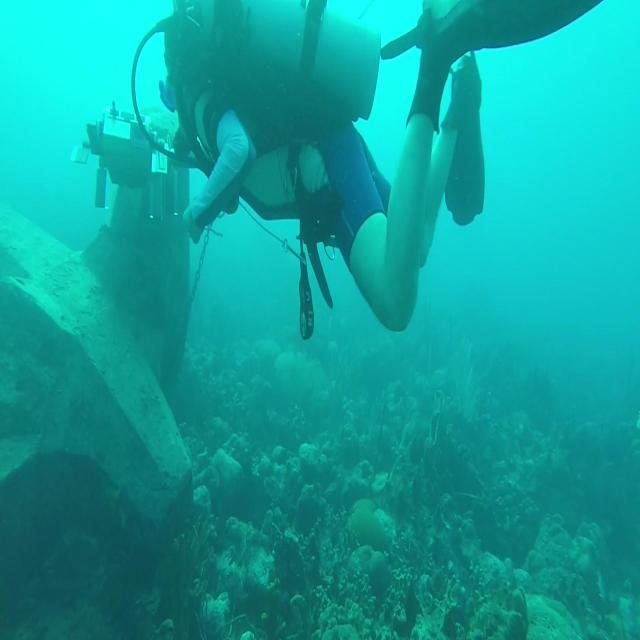human: (157, 0, 604, 340)
